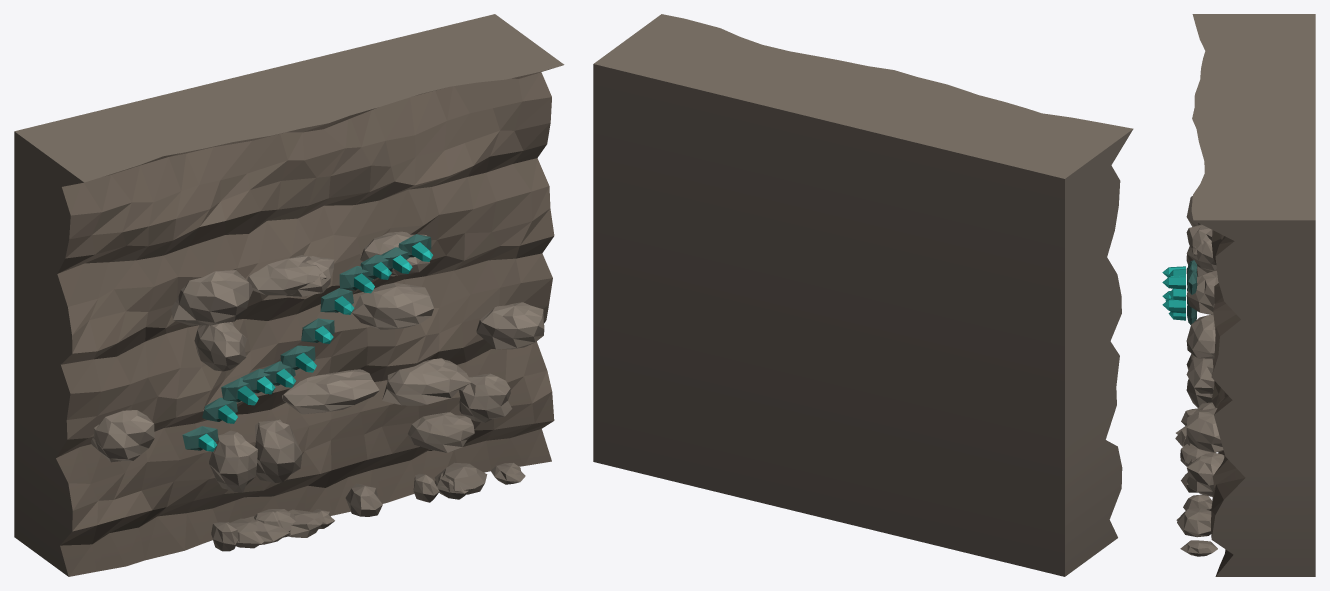
The model's file is mine_wall_b.glb.
3 renders of one model, left to right at view 1: azimuth 30°, elevation 25°; view 2: azimuth 150°, elevation 25°; view 3: azimuth 270°, elevation 25°, orthographic. The views are drawn at different scales.
Parts seen in each view (by area): view 1: mine_wall_b; view 2: mine_wall_b; view 3: mine_wall_b.
Part boxes in pixels (x1,y1,x2,y2): mine_wall_b: [14, 14, 564, 576]; mine_wall_b: [593, 14, 1133, 576]; mine_wall_b: [1162, 14, 1315, 576].
Size of the model in its own units: 6.2 by 5 by 1.95.
